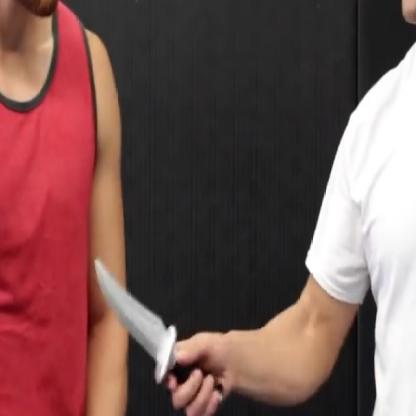knife: (88, 246, 227, 415)
